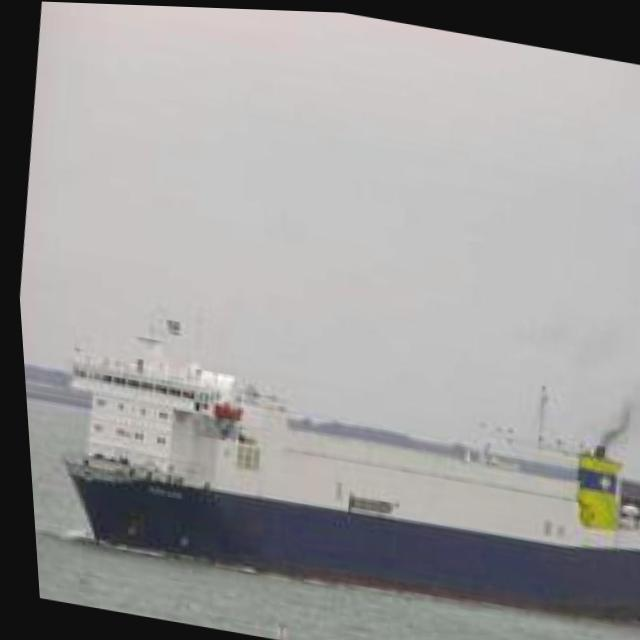ship2: (57, 314, 640, 623)
